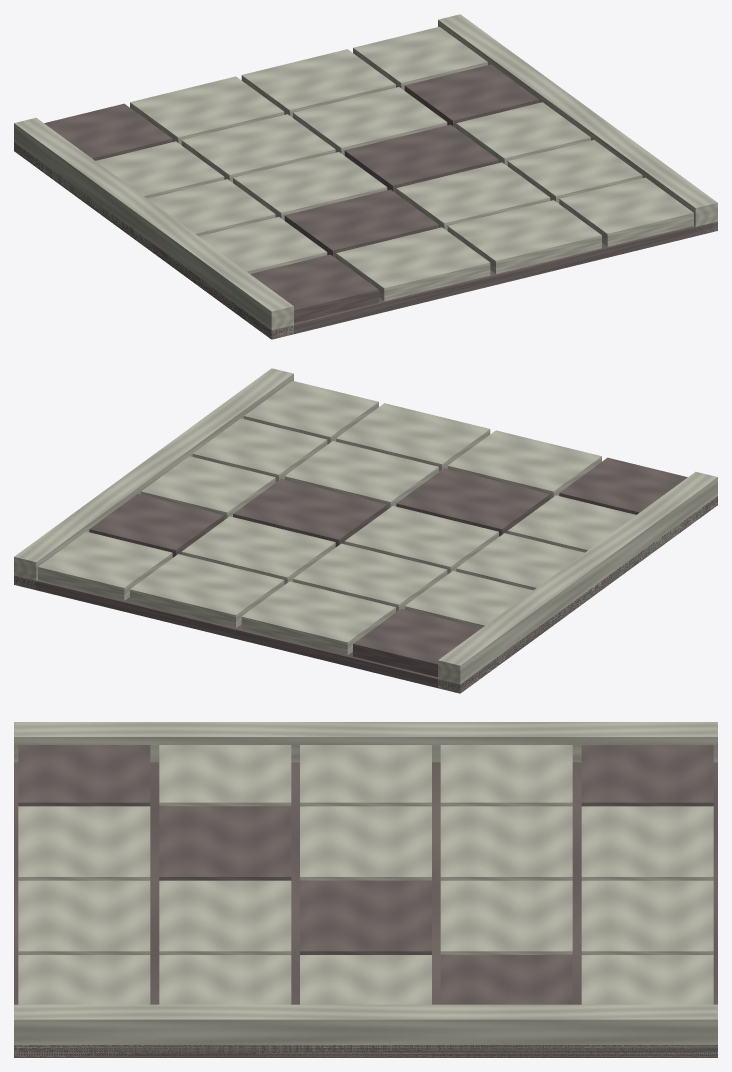
Rendered from lantern-watch-courtyard-cobble-tile__79.glb.
3 renders of one model, top to bottom at view 1: azimuth 30°, elevation 25°; view 2: azimuth 150°, elevation 25°; view 3: azimuth 270°, elevation 25°, orthographic. The views are drawn at different scales.
Parts seen in each view (by area): view 1: lantern-watch-cobble-path; view 2: lantern-watch-cobble-path; view 3: lantern-watch-cobble-path.
Part boxes in pixels (bbox=[...]): lantern-watch-cobble-path: bbox=[14, 14, 717, 339]; lantern-watch-cobble-path: bbox=[14, 368, 717, 693]; lantern-watch-cobble-path: bbox=[14, 722, 717, 1057].
Bounding box in the file's own units: 2 × 0.12 × 2.
Materials: 2 (2 with a texture image).
